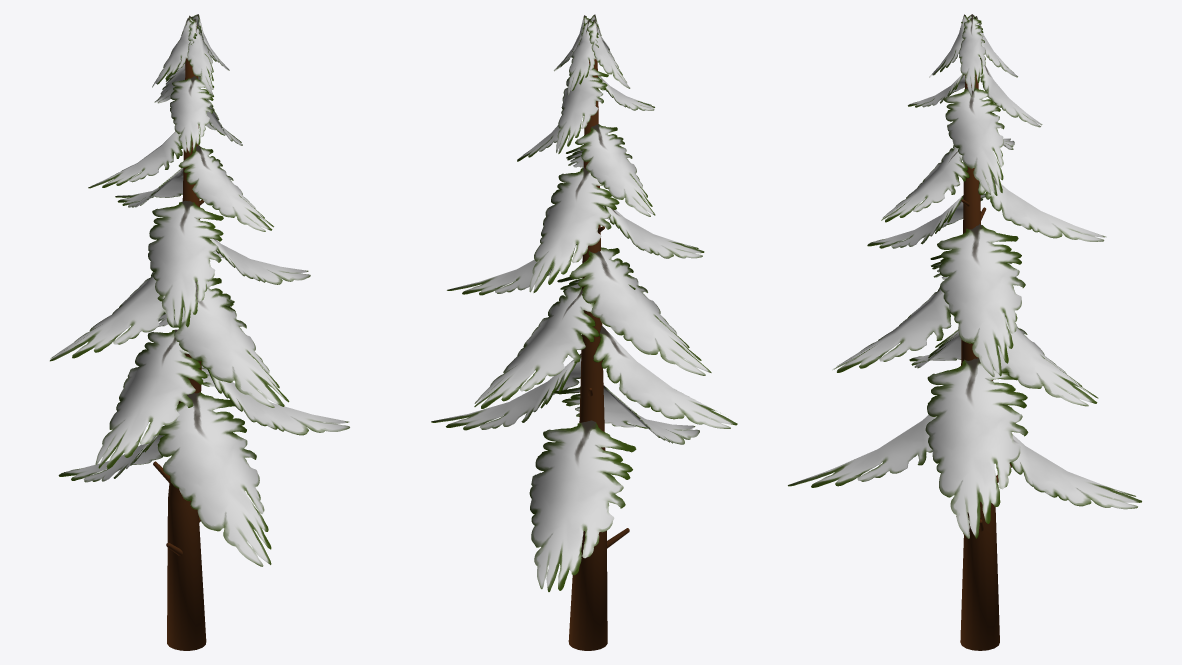
File: f_tree_01.fbx
3 views of the same model, side by side, from view 1: azimuth 30°, elevation 25°; view 2: azimuth 150°, elevation 25°; view 3: azimuth 270°, elevation 25° (orthographic).
Visible parts, largest first — view 1: f_tree_01; view 2: f_tree_01; view 3: f_tree_01.
Part boxes in pixels (box(x1,y1,x2,y2)): f_tree_01: box(50, 14, 349, 650); f_tree_01: box(431, 14, 737, 650); f_tree_01: box(788, 14, 1141, 650).
Bounding box in the file's own units: 656 × 1280 × 711.
